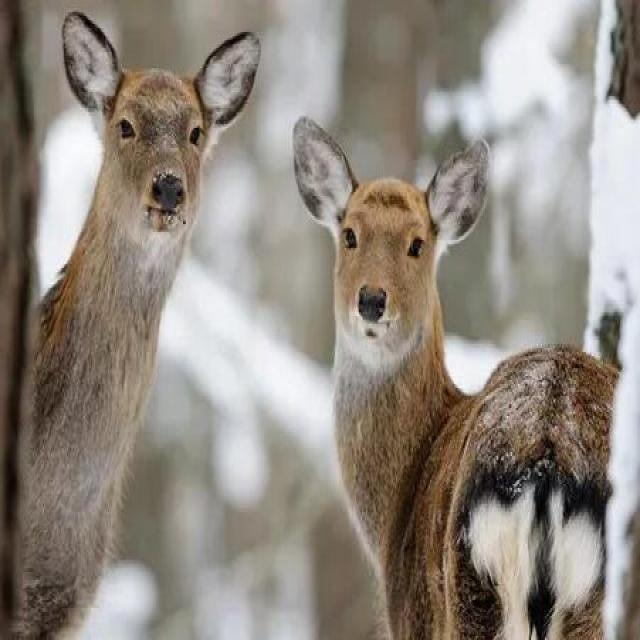deer: (326, 152, 640, 640), (0, 15, 230, 610)
